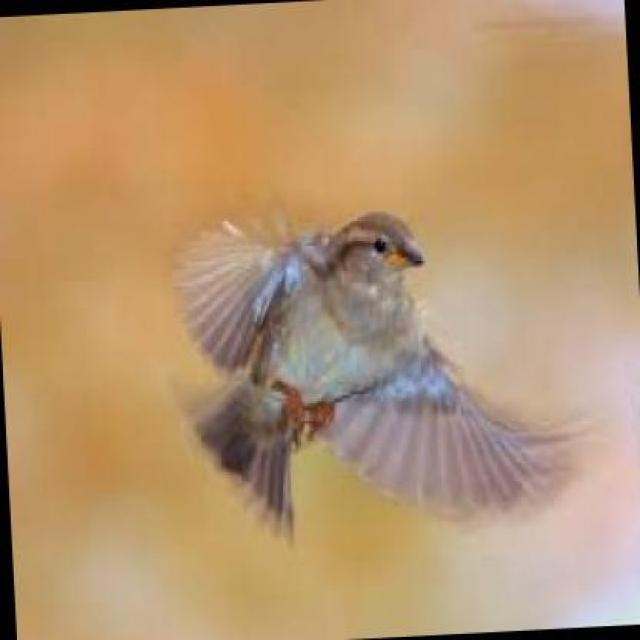Bird: (163, 204, 579, 574)
